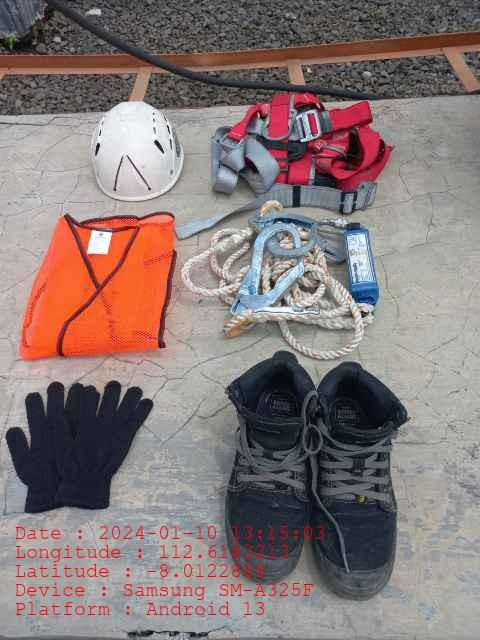HELM: (90, 101, 184, 202)
ROMPI: (22, 210, 176, 359)
SARUNG_TANGAN: (50, 381, 152, 506)
TAMBANG_SLING: (183, 202, 395, 358)
